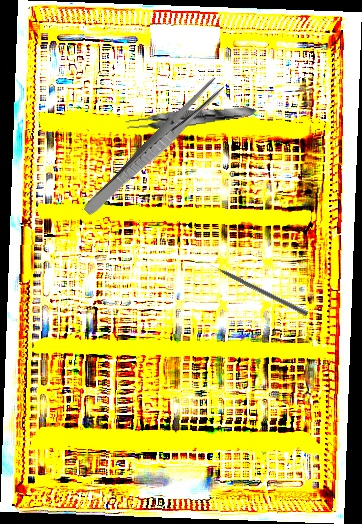Dressing Forceps: (81, 75, 227, 221)
Pusher: (204, 259, 310, 317)
Tissue Forceps: (124, 102, 258, 134)
